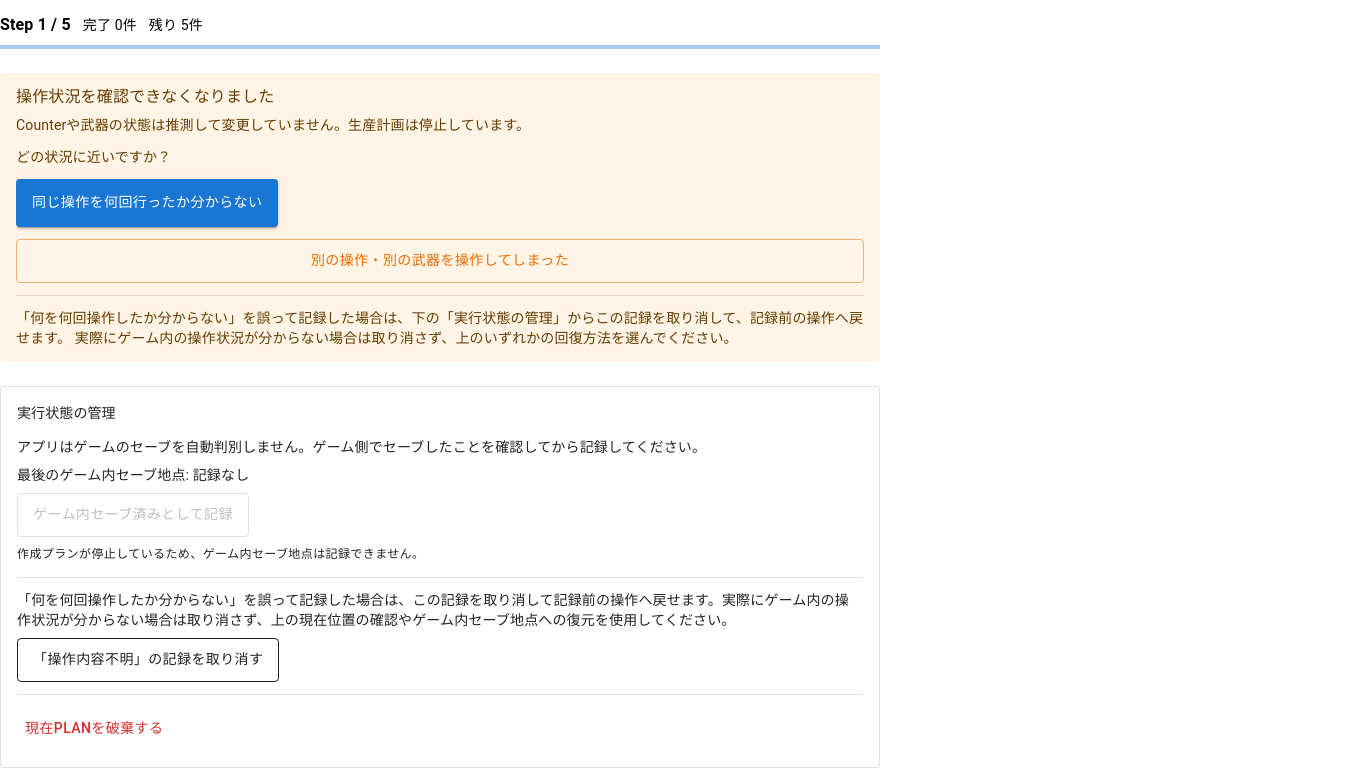
ExecutionNavigatorPage Undo with the real runtime › changes nothing when the dedicated operation_uncertain Undo is cancelled
The width and height of the screenshot is (1366, 768).
(page scrolled)
Expected: the element named "操作状況の回復" is shown, [0,73,880,362]
Click the button "「操作内容不明」の記録を取り消す" at (148, 660), box [17,638,279,682]
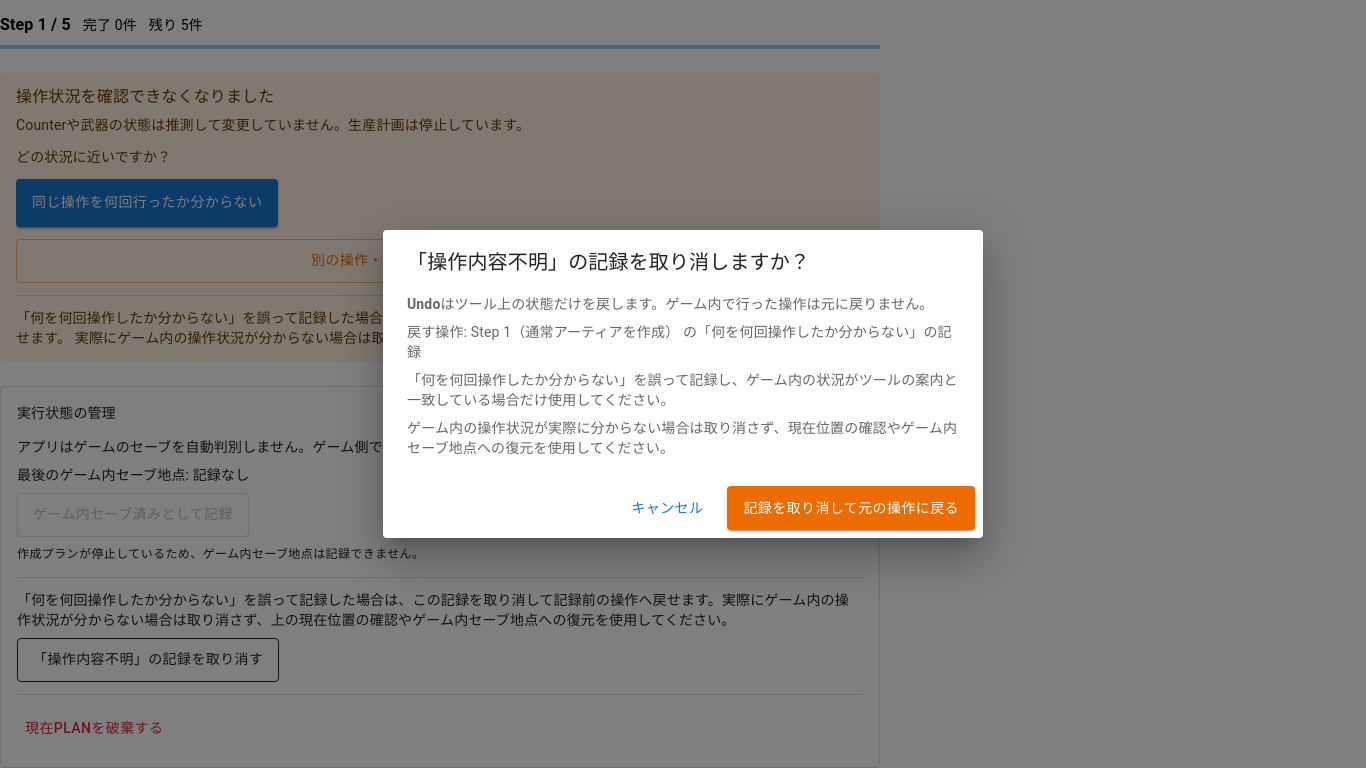
Click the button "キャンセル" at (667, 508), box [623,486,711,530]
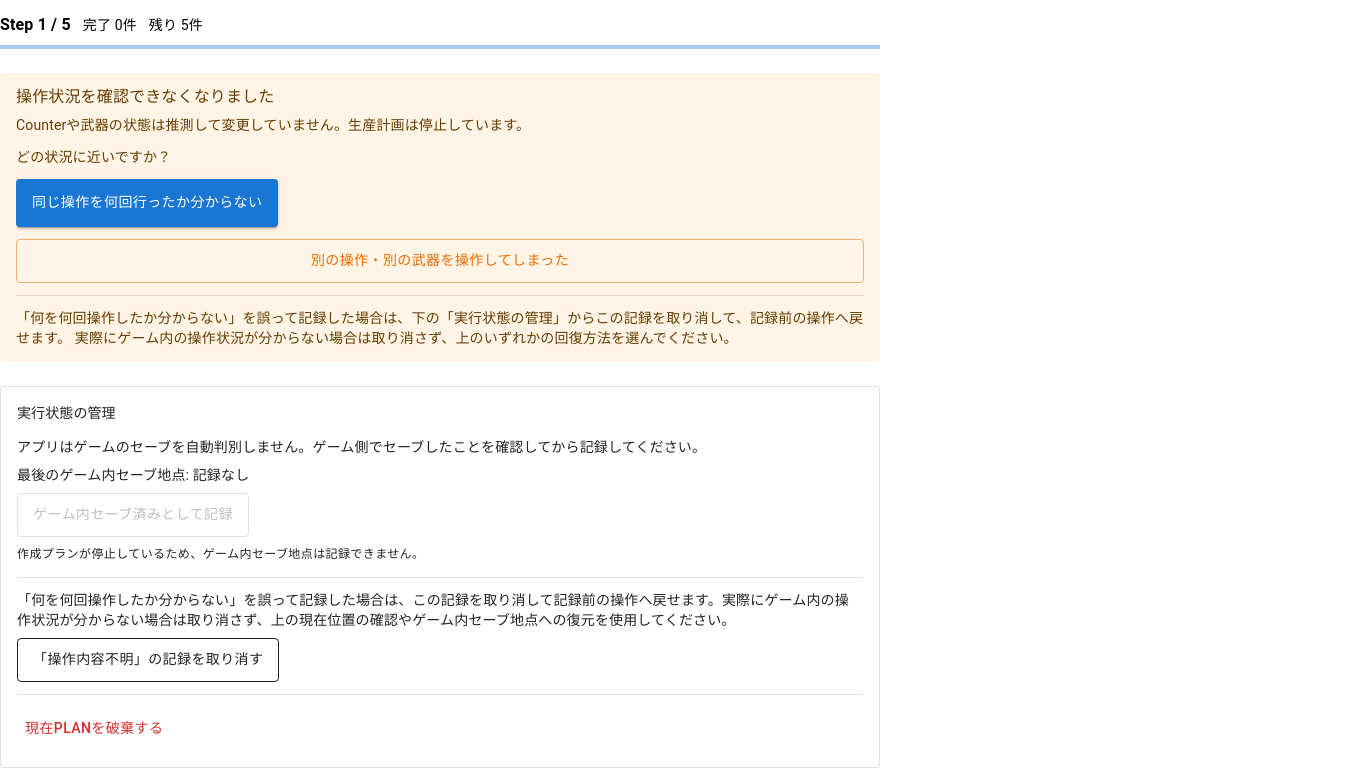
Expected: the element named "操作状況の回復" is shown, [0,73,880,362]
Result: the dialog is gone
